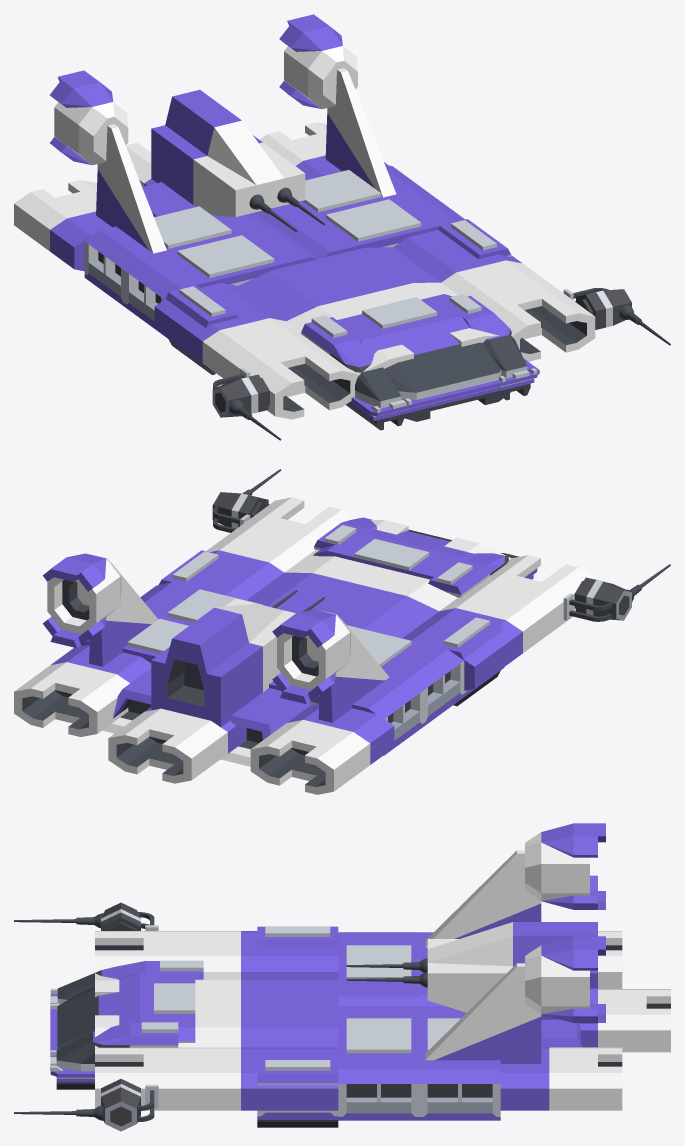
File: chasseur_moyen_2.glb
The picture shows the model from 3 angles, top to bottom: view 1: azimuth 30°, elevation 25°; view 2: azimuth 150°, elevation 25°; view 3: azimuth 270°, elevation 25°; orthographic projection.
Parts seen in each view (by area): view 1: mergedBlocks(Clone); view 2: mergedBlocks(Clone); view 3: mergedBlocks(Clone).
Boxes of the visible parts, x1=… form: mergedBlocks(Clone): x1=14, y1=14, x2=670, y2=440; mergedBlocks(Clone): x1=14, y1=469, x2=670, y2=794; mergedBlocks(Clone): x1=14, y1=823, x2=670, y2=1131.
Bounding box in the file's own units: 5.8 × 2.3 × 8.1.
1 material, 1 textured.
